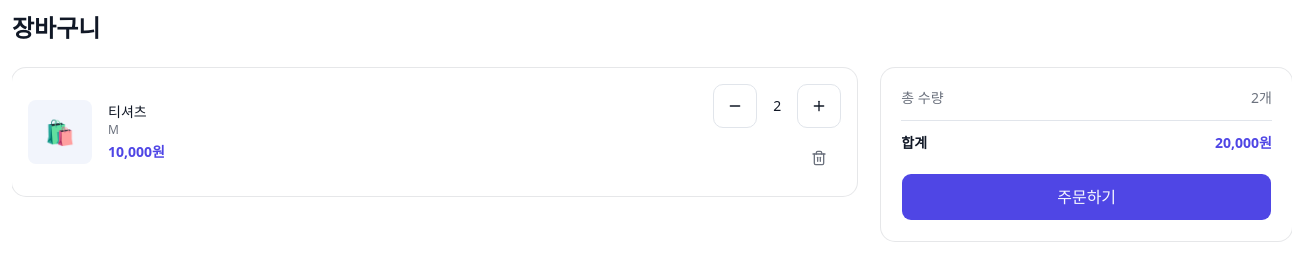
Test: CartPage › 회원이 수량을 올리면 서버 응답으로 합계를 갱신한다
Click the button named "수량 증가": click(819, 106) left=797, top=84, right=841, bottom=128
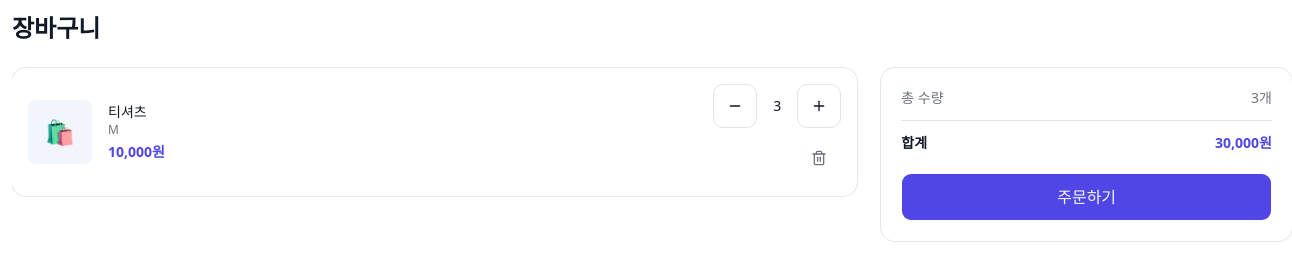
Expected: the text "30,000원" is shown, left=1215, top=133, right=1272, bottom=153
